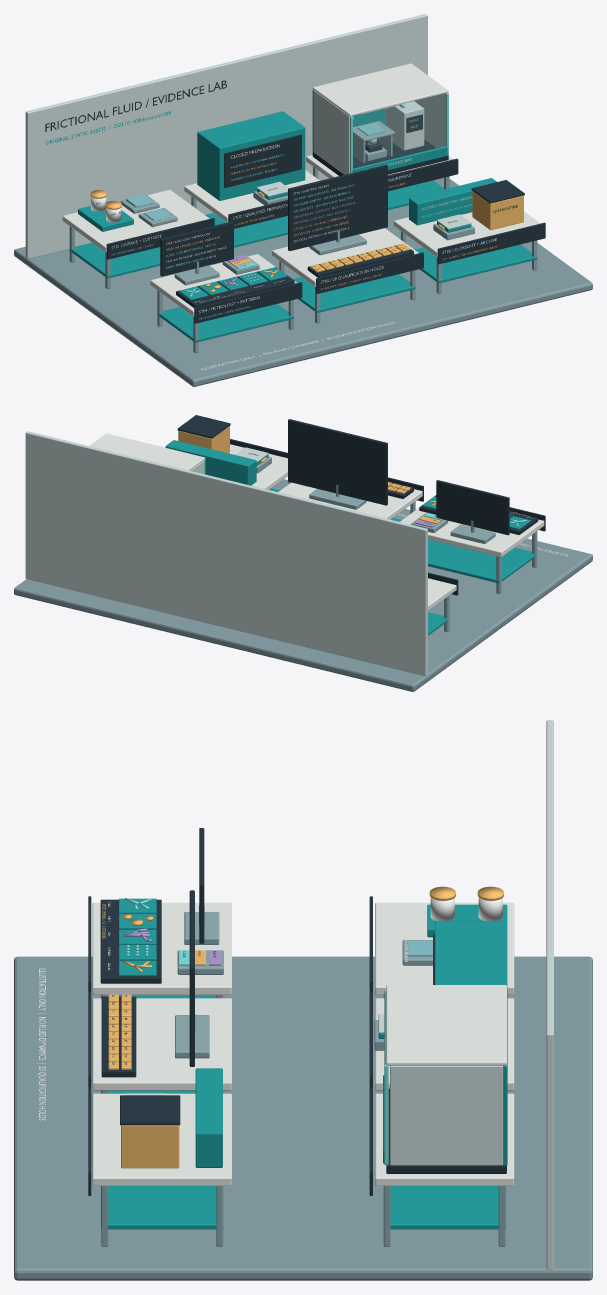
The model's file is frictional_lab.glb.
3 renders of one model, top to bottom at view 1: azimuth 30°, elevation 25°; view 2: azimuth 150°, elevation 25°; view 3: azimuth 270°, elevation 25°, orthographic. The views are drawn at different scales.
Parts seen in each view (by area): view 1: Environment.backwall, Environment.floor, A07.branch_dashboard.panel, A03.closed_prep_enclosure, A04.closed_front_guard, A04.enclosure_top, A05.metrology.panel, A03.service_face, ST01.bench.top, ST04.bench.shelf, A04.enclosure_side, ST05.bench.shelf (+28 smaller); view 2: Environment.backwall, Environment.floor, A07.branch_dashboard.panel, A05.metrology.panel, ST04.bench.shelf, ST04.bench.top, A08.archive, A04.enclosure_top, ST05.bench.top, ST06.bench.top, A08.quarantine_lid, A08.quarantine_case (+4 smaller); view 3: Environment.floor, A04.enclosure_side.001, A04.enclosure_top, ST05.bench.top, ST06.bench.top, ST04.bench.top, ST03.bench.shelf, ST06.bench.shelf, ST01.bench.top, A03.closed_prep_enclosure, Environment.backwall, ST03.bench.top (+11 smaller).
Boxes of the visible parts, x1,y1,x2,y2 form: Environment.backwall: (25, 14, 427, 258); Environment.floor: (14, 177, 592, 386); A07.branch_dashboard.panel: (288, 164, 387, 251); A03.closed_prep_enclosure: (197, 111, 305, 200); A04.closed_front_guard: (353, 94, 444, 167); A04.enclosure_top: (312, 63, 448, 116); A05.metrology.panel: (160, 221, 233, 276); A03.service_face: (224, 134, 301, 187); ST01.bench.top: (62, 189, 209, 252); ST04.bench.shelf: (159, 304, 293, 342); A04.enclosure_side: (314, 90, 349, 174); ST05.bench.shelf: (293, 274, 415, 312); Environment.backwall: (25, 431, 427, 676); Environment.floor: (14, 479, 592, 691); A07.branch_dashboard.panel: (288, 419, 387, 505); A05.metrology.panel: (436, 480, 509, 535); ST04.bench.shelf: (428, 539, 535, 583); ST04.bench.top: (400, 508, 544, 557); A08.archive: (165, 440, 256, 485); A04.enclosure_top: (89, 433, 205, 470); ST05.bench.top: (278, 482, 422, 519); ST06.bench.top: (229, 444, 287, 489); A08.quarantine_lid: (177, 415, 230, 438); A08.quarantine_case: (178, 426, 229, 453); Environment.floor: (14, 956, 592, 1280); A04.enclosure_side.001: (390, 1065, 503, 1165); A04.enclosure_top: (386, 985, 506, 1065); ST05.bench.top: (92, 998, 231, 1090); ST06.bench.top: (92, 1093, 231, 1185); ST04.bench.top: (92, 902, 231, 994); ST03.bench.shelf: (383, 1186, 505, 1229); ST06.bench.shelf: (101, 1186, 223, 1229); ST01.bench.top: (375, 902, 514, 994); A03.closed_prep_enclosure: (435, 921, 507, 988); Environment.backwall: (546, 720, 553, 1269); ST03.bench.top: (375, 1093, 514, 1185).
Size of the model in its own units: 7.9 by 2.9 by 6.15.
